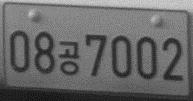0: (109, 33, 132, 77), (135, 35, 157, 80), (8, 29, 30, 72)
2: (161, 36, 184, 81)
7: (84, 33, 106, 76)
8: (33, 30, 55, 73)
공: (57, 39, 80, 76)
